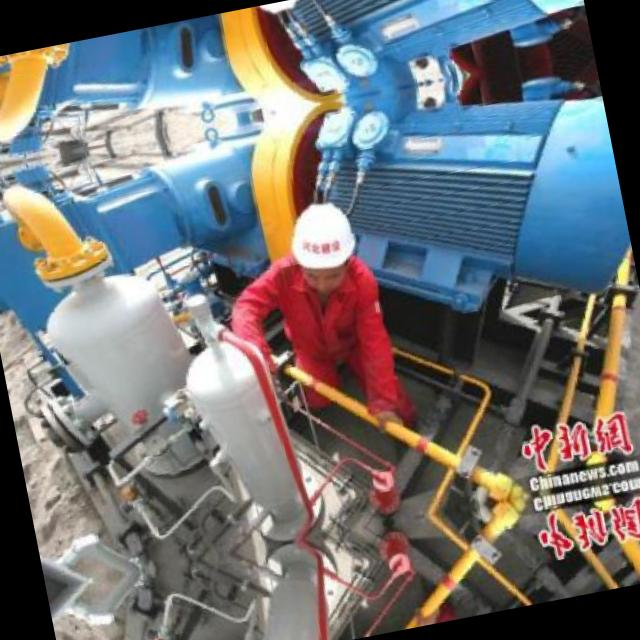helmet: (278, 185, 369, 300)
